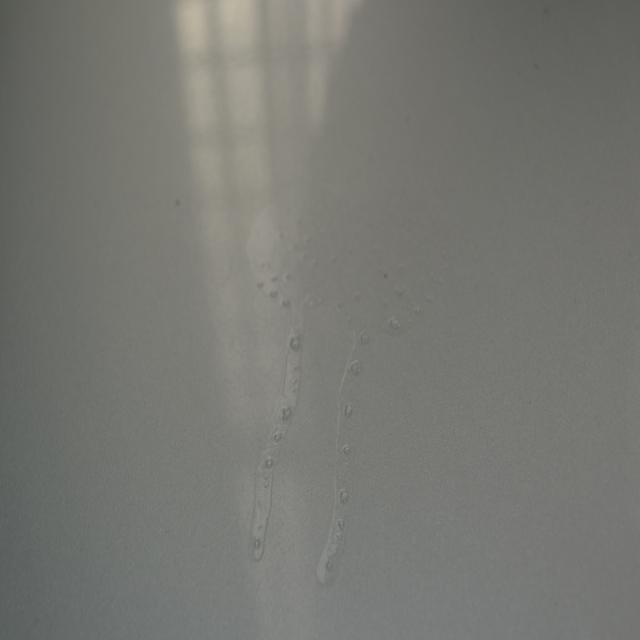dirt: (173, 196, 180, 210)
runs: (236, 206, 451, 593)
